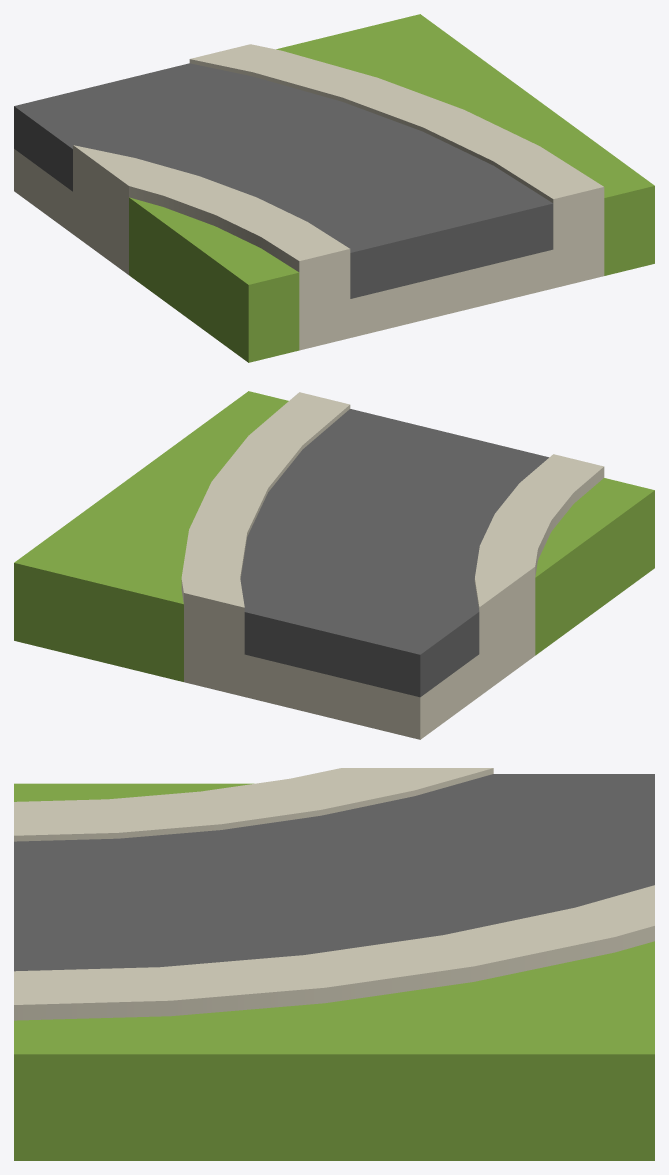
Rendered from tile162.fbx.
3 renders of one model, top to bottom at view 1: azimuth 30°, elevation 25°; view 2: azimuth 150°, elevation 25°; view 3: azimuth 270°, elevation 25°, orthographic. The views are drawn at different scales.
Visible parts, largest first — view 1: tile162; view 2: tile162; view 3: tile162.
Part boxes in pixels (x1=…): tile162: x1=14, y1=14, x2=654, y2=362; tile162: x1=14, y1=391, x2=654, y2=739; tile162: x1=14, y1=768, x2=654, y2=1160.
Size of the model in its own units: 10 by 2.1 by 10.
